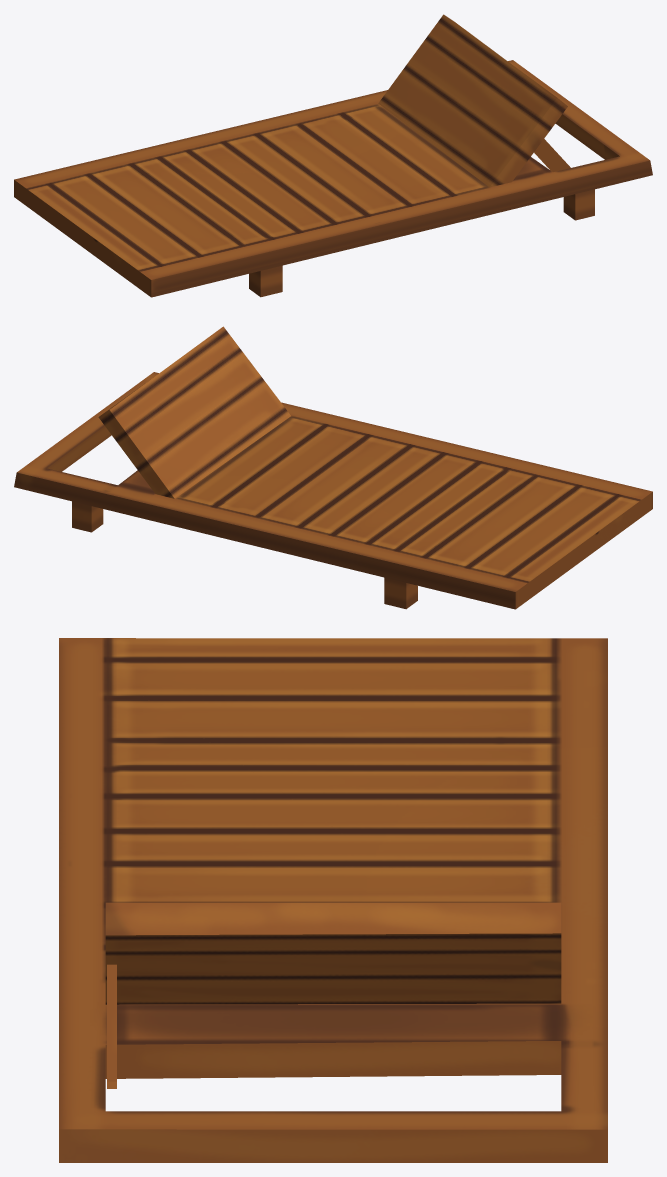
The model's file is woodchair.FBX.
3 renders of one model, top to bottom at view 1: azimuth 30°, elevation 25°; view 2: azimuth 150°, elevation 25°; view 3: azimuth 270°, elevation 25°, orthographic. The views are drawn at different scales.
Visible parts, largest first — view 1: Box006; view 2: Box006; view 3: Box006.
Part boxes in pixels (x1,y1,x2,y2): Box006: [14, 14, 652, 297]; Box006: [14, 326, 652, 609]; Box006: [59, 638, 607, 1162].
Bounding box in the file's own units: 169 × 37.19 × 80.
